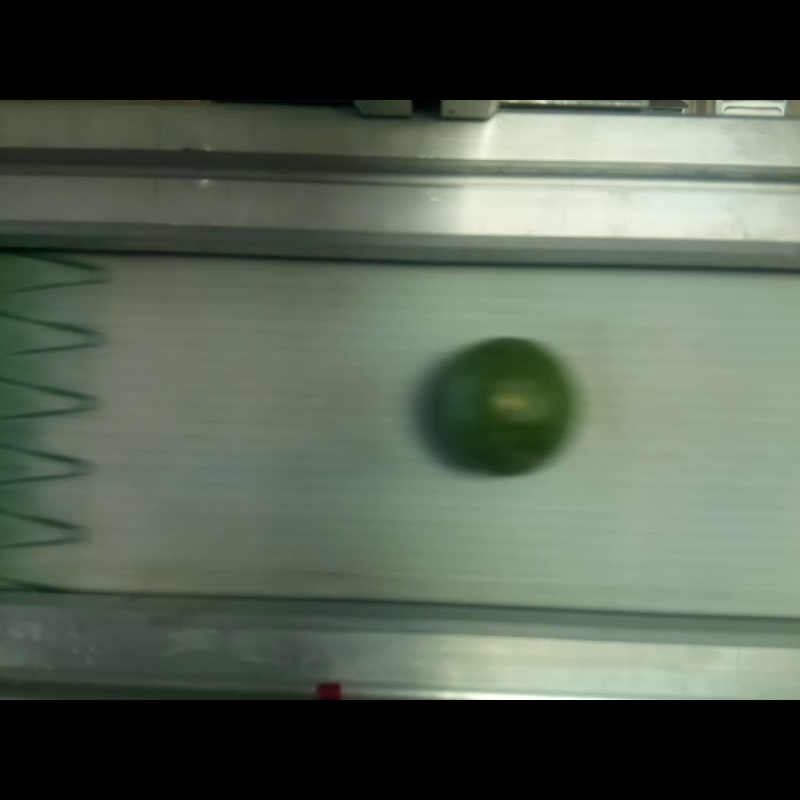lime: (431, 338, 573, 475)
